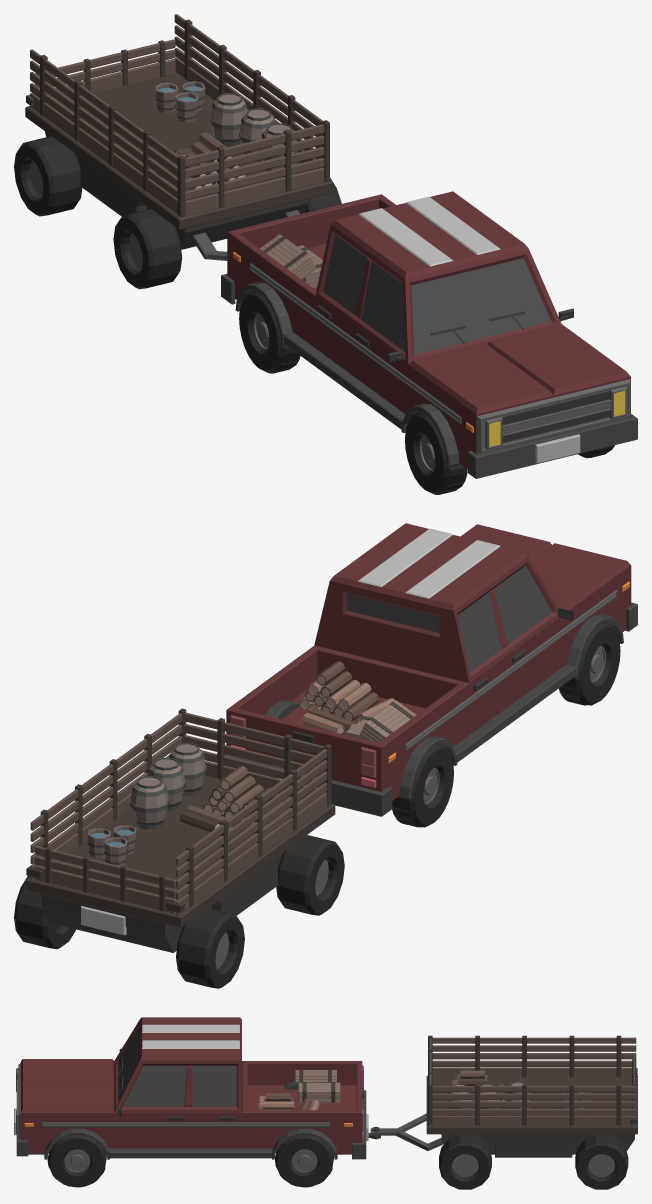
3 views of the same model, one above another, from view 1: azimuth 30°, elevation 25°; view 2: azimuth 150°, elevation 25°; view 3: azimuth 270°, elevation 25° (orthographic). The views are drawn at different scales.
Parts seen in each view (by area): view 1: car_a03_001, Box2210, Cylinder200, Shape041, Box2228, Box2174, Box2258, Box2187; view 2: car_a03_001, Box2210, Cylinder200, Shape041, Box2228, Box2258, Box2184; view 3: car_a03_001, Box2210, Cylinder200, Box2228, Box2258, Shape041, Box2174.
Part boxes in pixels (<box>): car_a03_001: <box>14,136,630,494</box>; Box2210: <box>25,14,333,229</box>; Cylinder200: <box>221,263,637,478</box>; Shape041: <box>155,81,299,190</box>; Box2228: <box>45,131,308,260</box>; Box2174: <box>477,379,630,453</box>; Box2258: <box>260,234,322,287</box>; Box2187: <box>535,434,580,463</box>; car_a03_001: <box>14,523,631,988</box>; Box2210: <box>25,708,335,927</box>; Cylinder200: <box>225,590,637,816</box>; Shape041: <box>87,742,289,866</box>; Box2228: <box>42,853,282,952</box>; Box2258: <box>299,661,416,742</box>; Box2184: <box>230,715,376,787</box>; car_a03_001: <box>21,1017,628,1189</box>; Box2210: <box>426,1035,637,1134</box>; Cylinder200: <box>16,1080,380,1159</box>; Box2228: <box>370,1113,634,1157</box>; Box2258: <box>258,1069,340,1110</box>; Shape041: <box>446,1070,593,1115</box>; Box2174: <box>16,1063,20,1139</box>.
Size of the model in its own units: 2.37 by 2.11 by 9.64.
Materials: 1 (1 with a texture image).
